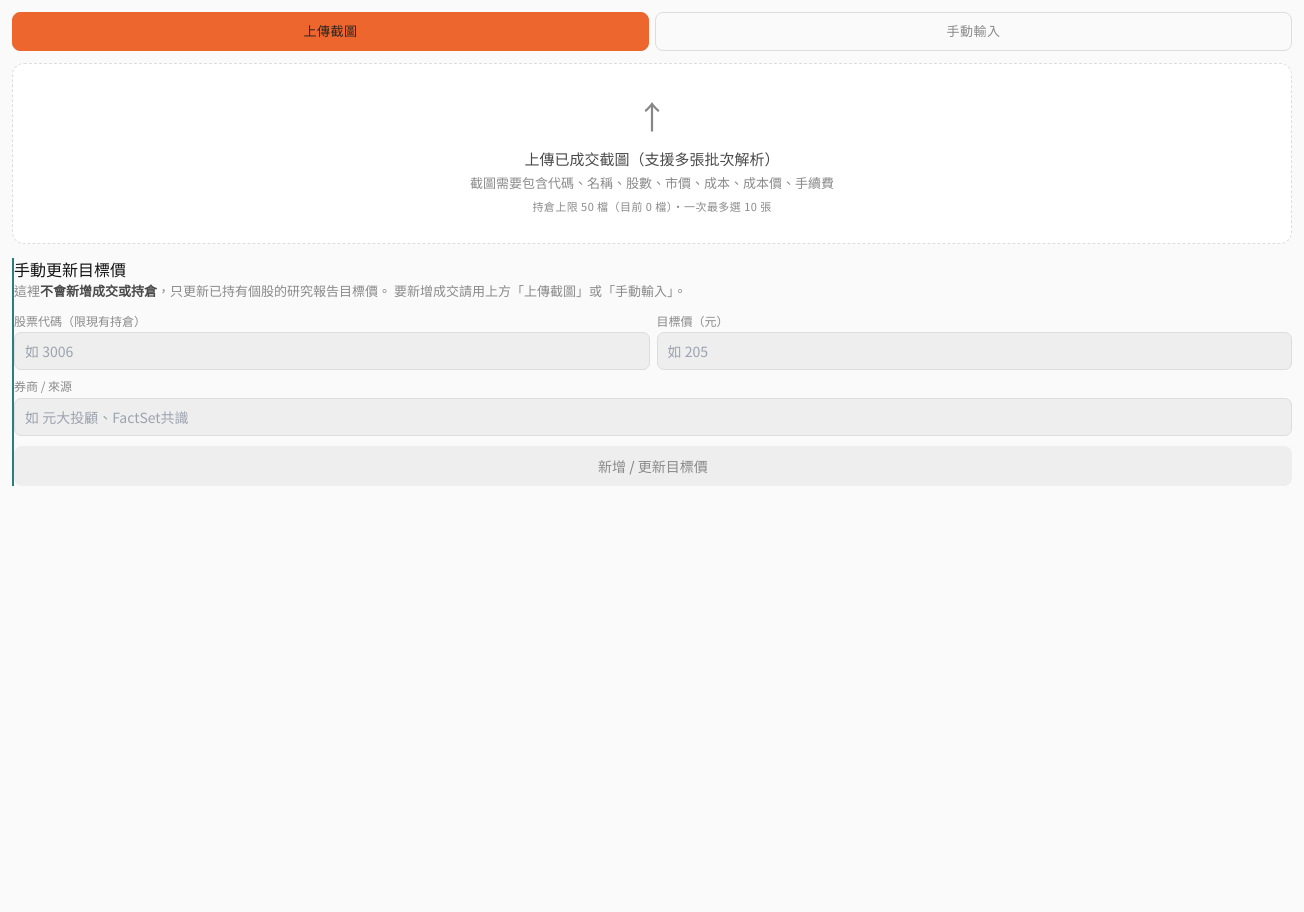
Test: TradeTab — 手動 / OCR 共用同一份 preview 與同一顆確認鈕 › 手動加入的列走 setParsed → appendToParsed，沒有第二條 commit
Later steps or results of the test are not shown.
Click the tab "手動輸入" at (974, 31), box top-left (655, 12), bottom-right (1292, 51)
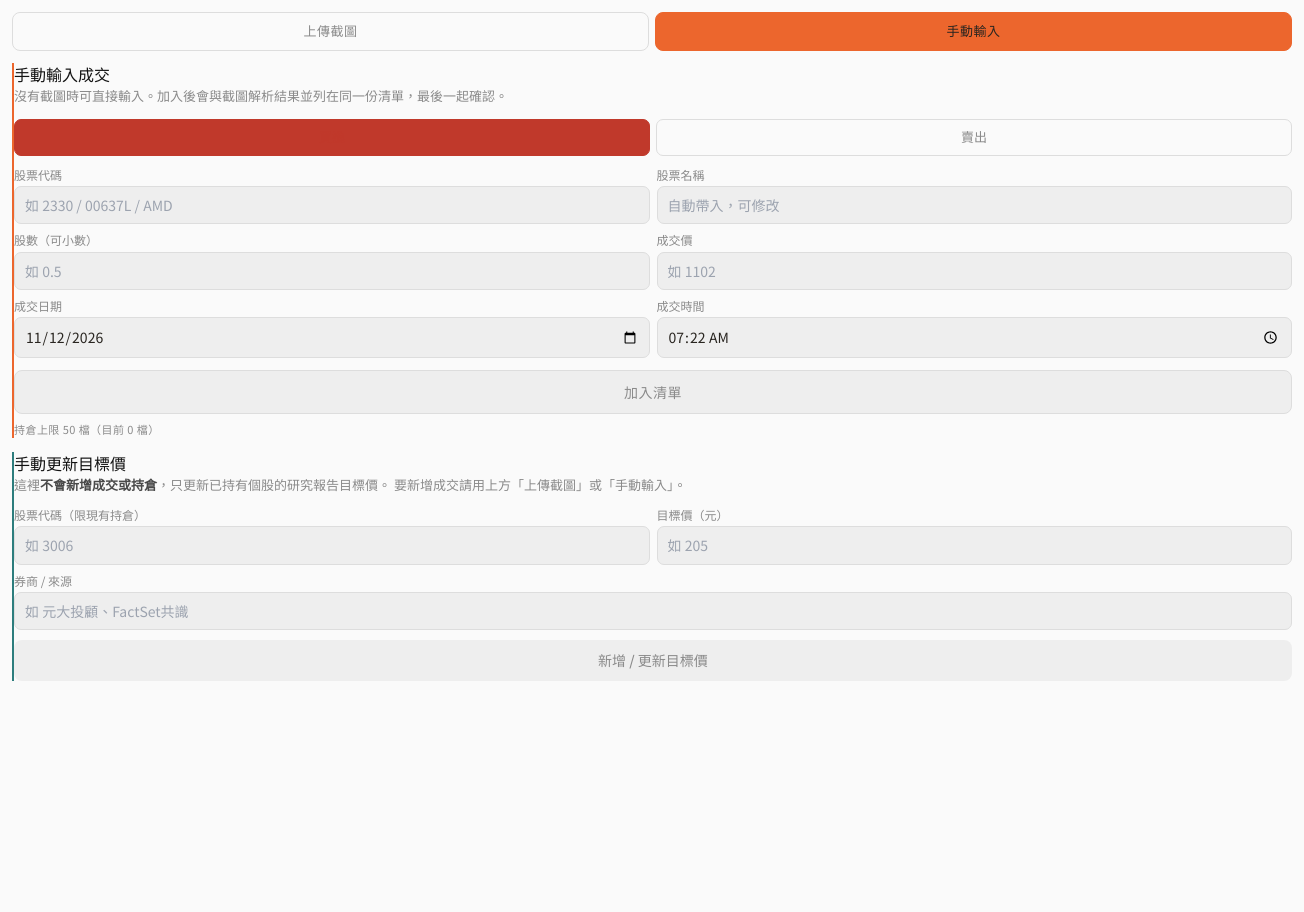
Type "2330" into the field named "股票代碼" at (332, 205), box top-left (14, 186), bottom-right (650, 224)
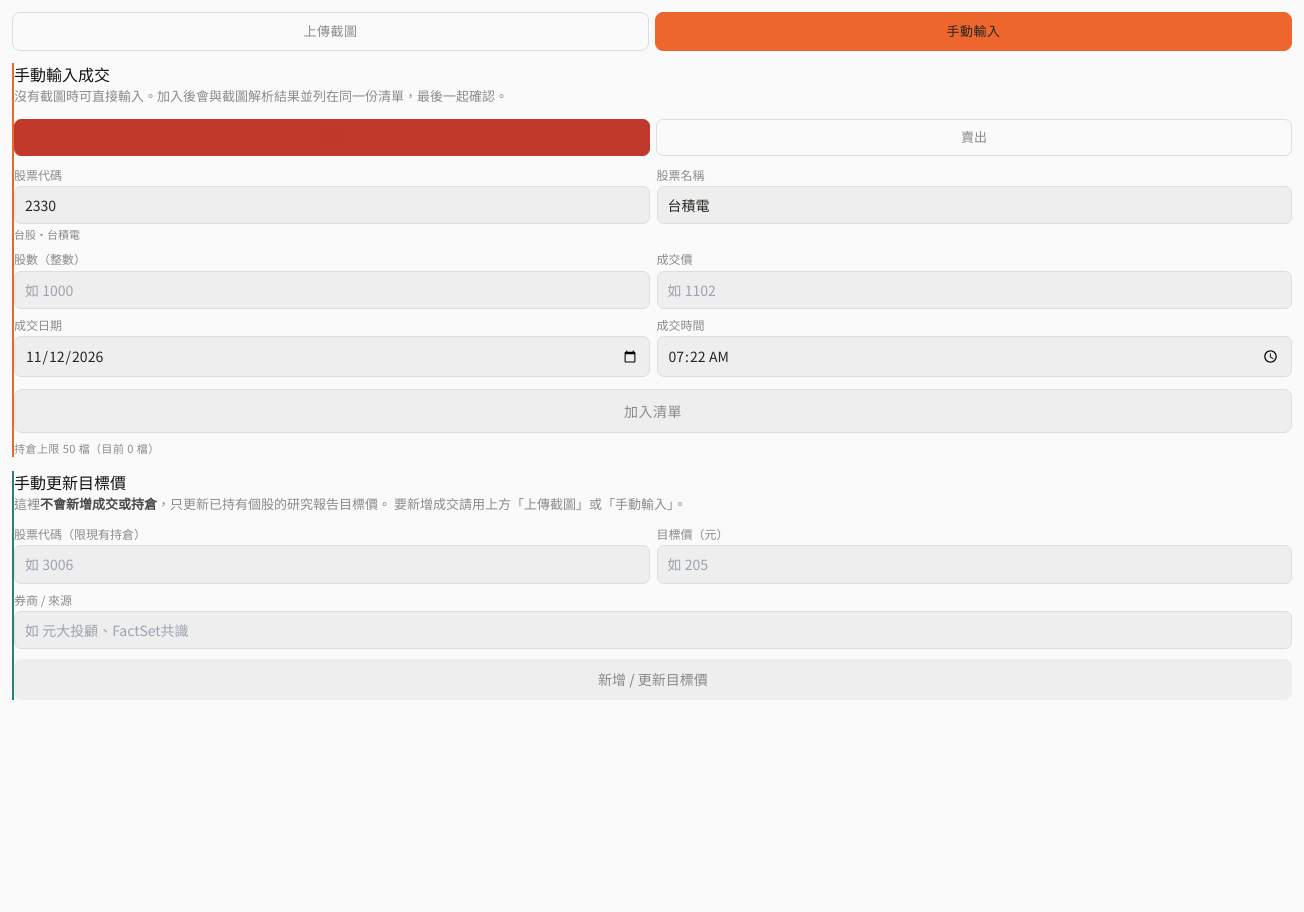
Check: the field named "股票名稱" holds "台積電", box top-left (656, 186), bottom-right (1292, 224)
